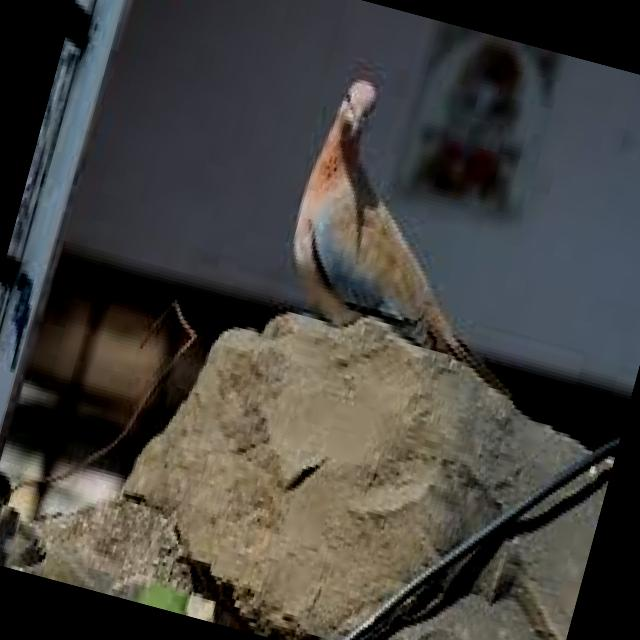bird: (266, 58, 570, 374)
